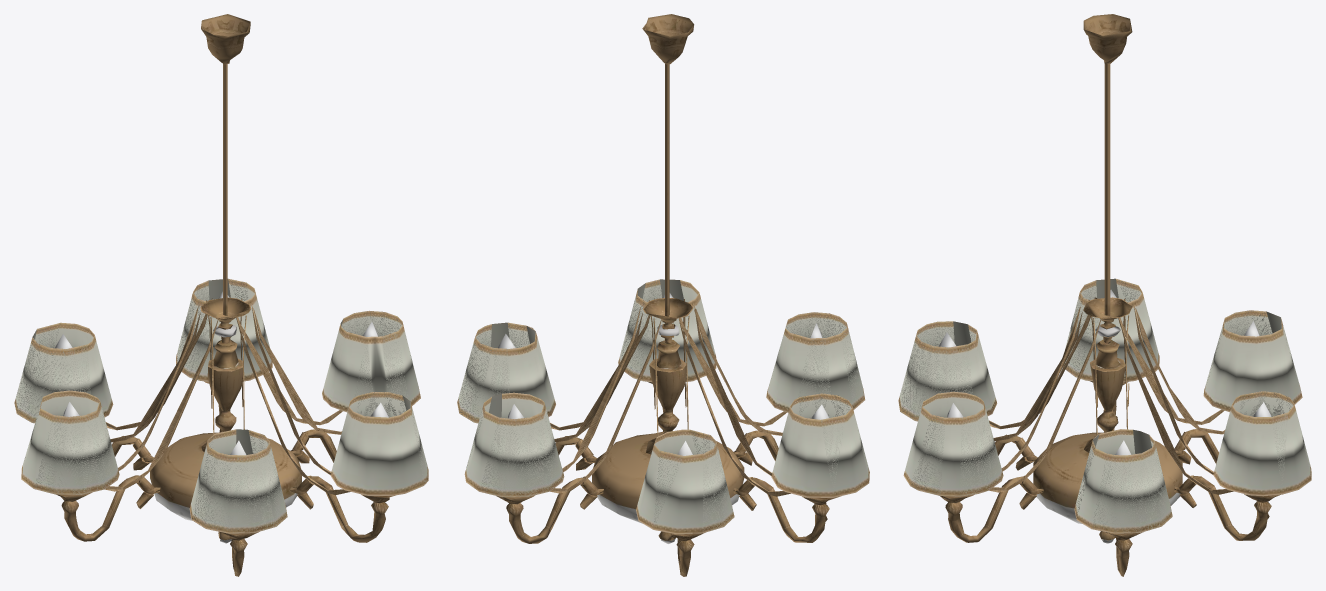
File: chandelier.glb
The picture shows the model from 3 angles, left to right: view 1: azimuth 30°, elevation 25°; view 2: azimuth 150°, elevation 25°; view 3: azimuth 270°, elevation 25°; orthographic projection.
Parts seen in each view (by area): view 1: Chandelier_02; view 2: Chandelier_02; view 3: Chandelier_02.
Part boxes in pixels (box(x1,y1,x2,y2)): Chandelier_02: box(14, 14, 428, 576); Chandelier_02: box(457, 14, 869, 576); Chandelier_02: box(898, 14, 1311, 576).
Bounding box in the file's own units: 0.6726 × 0.8481 × 0.6123.
2 materials, 1 textured.
